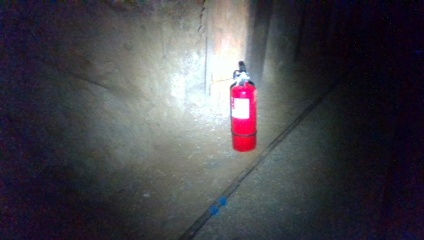fire_extinguisher: (229, 60, 258, 153)
